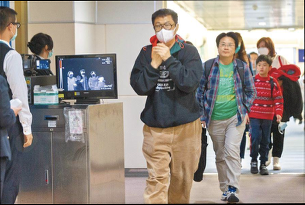with_mask: (153, 20, 176, 44), (257, 43, 271, 58)
without_mask: (216, 40, 237, 59), (255, 61, 269, 76)
